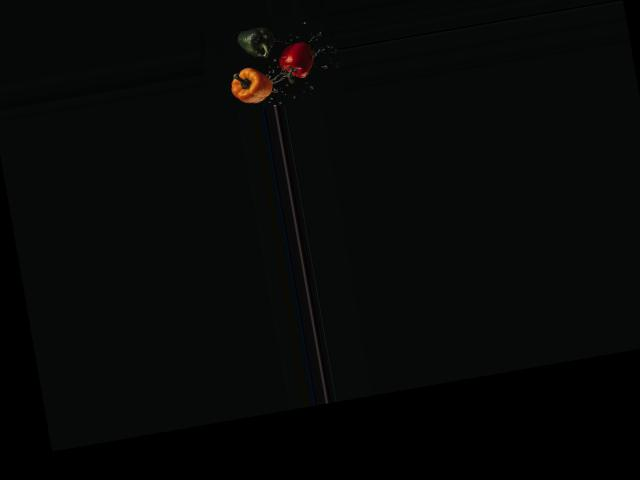bell_pepper: (268, 32, 319, 91)
